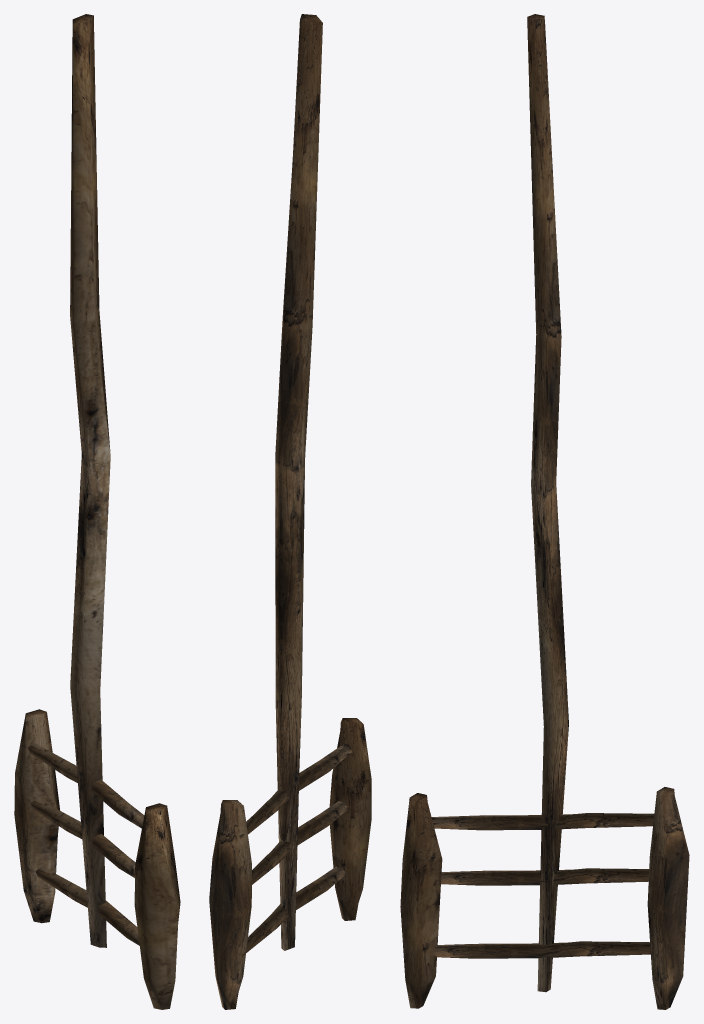
Rendered from mieszadlo.fbx.
3 views of the same model, side by side, from view 1: azimuth 30°, elevation 25°; view 2: azimuth 150°, elevation 25°; view 3: azimuth 270°, elevation 25° (orthographic). The views are drawn at different scales.
Visible parts, largest first — view 1: kij; view 2: kij; view 3: kij.
Boxes of the visible parts, box(x1,y1,x2,y2) form: kij: box(14, 14, 180, 1009); kij: box(209, 14, 371, 1009); kij: box(400, 14, 689, 1009).
Bounding box in the file's own units: 0.5208 × 9.33 × 2.49.
